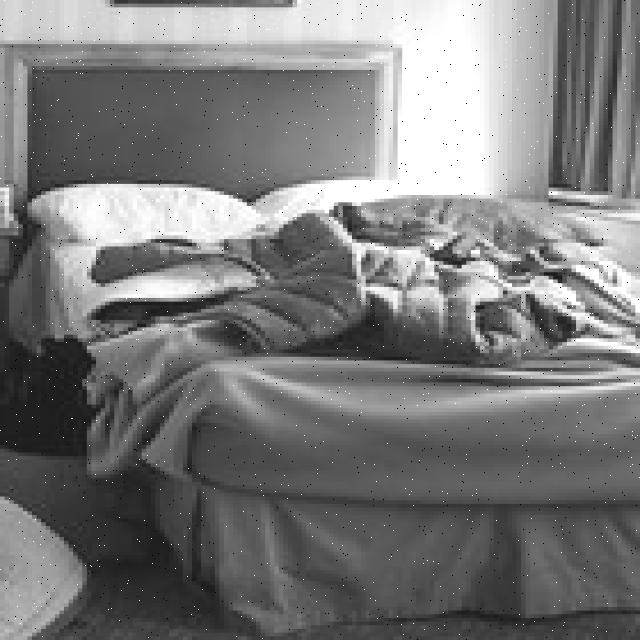bed: (23, 147, 640, 592)
